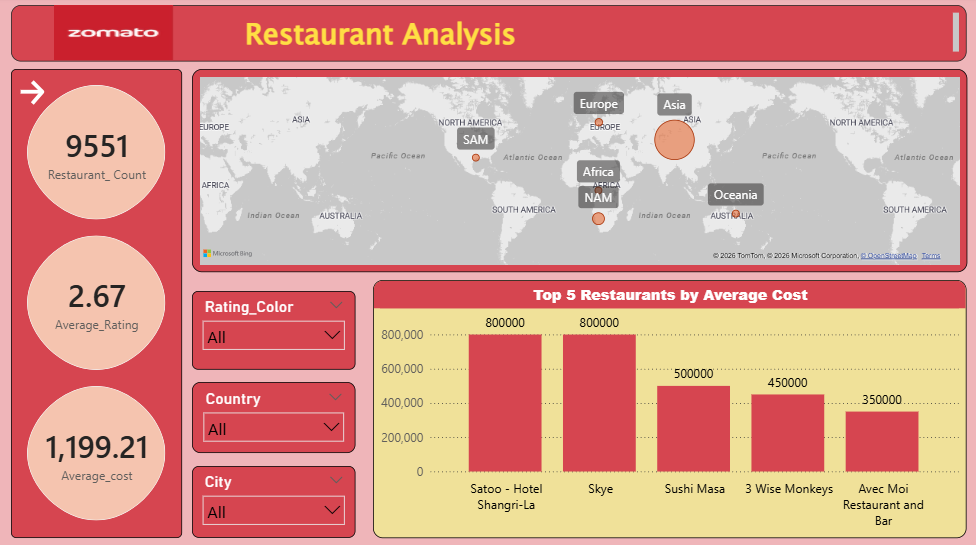

What the dashboard file says about the page in this screenshot:
{"tool":"powerbi","page":{"name":"Worldwide Analysis","canvas":[1280,720],"ordinal":0},"visuals":[{"type":"textbox","box":[15.9,10.1,1251.1,73.7],"z":0},{"type":"cardVisual","fields":{"Data":["Append1.Restaurant_ Count","KPIs.Average_Rating","KPIs.Average_cost"]},"box":[15.9,93.9,223.9,614],"z":1000},{"type":"map","fields":{"Category":["Append1.Continent Hierarchy.Continent","Append1.Continent Hierarchy.Country","Append1.Continent Hierarchy.City","Append1.Continent Hierarchy.Latitude","Append1.Continent Hierarchy.Longitude"],"Size":["Append1.Restaurant_ Count"]},"box":[252.2,94,1014.9,265.7],"z":2000},{"type":"clusteredColumnChart","title":"Top 5 Restaurants by Average Cost","fields":{"Category":["Append1.Restaurant Name"],"Y":["KPIs.Average_cost"]},"box":[489.9,371,776.8,337.7],"z":3000},{"type":"slicer","fields":{"Values":["Append1.Country"]},"box":[252.2,504.3,214.5,92.8],"z":4000},{"type":"slicer","fields":{"Values":["Append1.City"]},"box":[252.2,614.5,214.5,94.2],"z":5000},{"type":"slicer","fields":{"Values":["KPIs.Rating_Color"]},"box":[252.2,385.5,214.5,102.9],"z":6000},{"type":"image","box":[71.9,10.9,156.2,71.9],"z":7000},{"type":"actionButton","box":[21.9,104.7,100,40.6],"z":8000},{"type":"shape","box":[71.9,82.8,287.5,167.2],"z":9000},{"type":"image","box":[89.1,106.2,126.6,121.9],"z":10000},{"type":"actionButton","box":[268.8,135.9,123.4,60.9],"z":11000}]}

Visuals, with their boxes in screenshot pixels (x1, y1, x2, y2), scaled from the page's 1280x720 canvas onto the 976x545 screenshot:
textbox: [12, 8, 966, 63]
cardVisual - Append1.Restaurant_ Count x KPIs.Average_Rating: [12, 71, 183, 536]
map - Append1.Continent Hierarchy.Continent x Append1.Continent Hierarchy.Country: [192, 71, 966, 272]
"Top 5 Restaurants by Average Cost" clusteredColumnChart: [374, 281, 966, 536]
slicer - Append1.Country: [192, 382, 356, 452]
slicer - Append1.City: [192, 465, 356, 536]
slicer - KPIs.Rating_Color: [192, 292, 356, 370]
image: [55, 8, 174, 63]
actionButton: [17, 79, 93, 110]
shape: [55, 63, 274, 189]
image: [68, 80, 164, 173]
actionButton: [205, 103, 299, 149]
